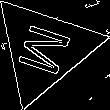M_E: (11, 19, 77, 79)
